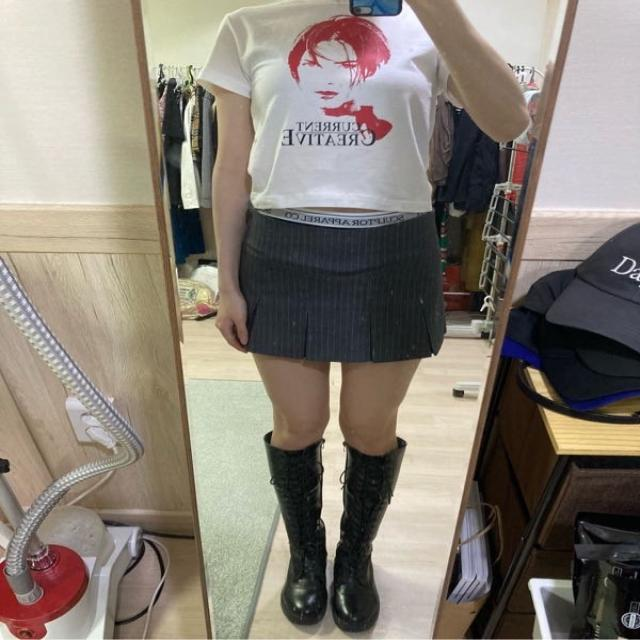shortsleeve: (202, 5, 458, 212)
skirt: (232, 200, 446, 362)
